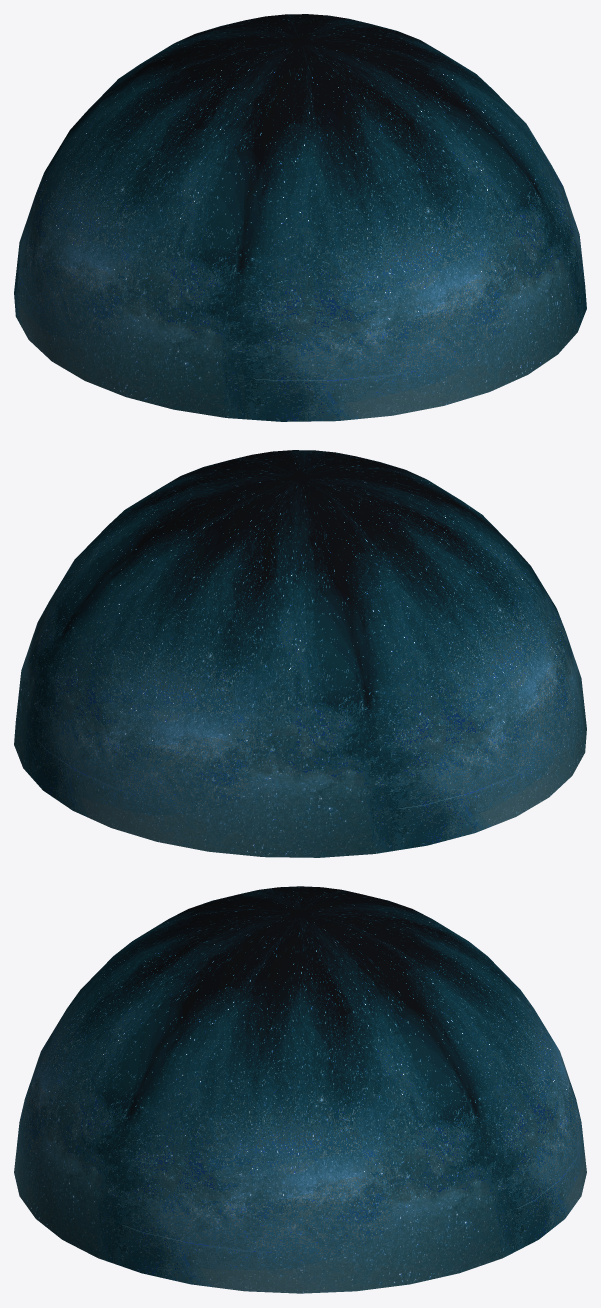
Rendered from range.glb.
3 views of the same model, one above another, from view 1: azimuth 30°, elevation 25°; view 2: azimuth 150°, elevation 25°; view 3: azimuth 270°, elevation 25° (orthographic).
Parts seen in each view (by area): view 1: Sphere; view 2: Sphere; view 3: Sphere.
Part boxes in pixels (<box>): Sphere: <box>14,14,586,421</box>; Sphere: <box>14,450,586,857</box>; Sphere: <box>14,886,586,1293</box>.
Bounding box in the file's own units: 1215 × 645 × 1215.
10 materials, 9 textured.
